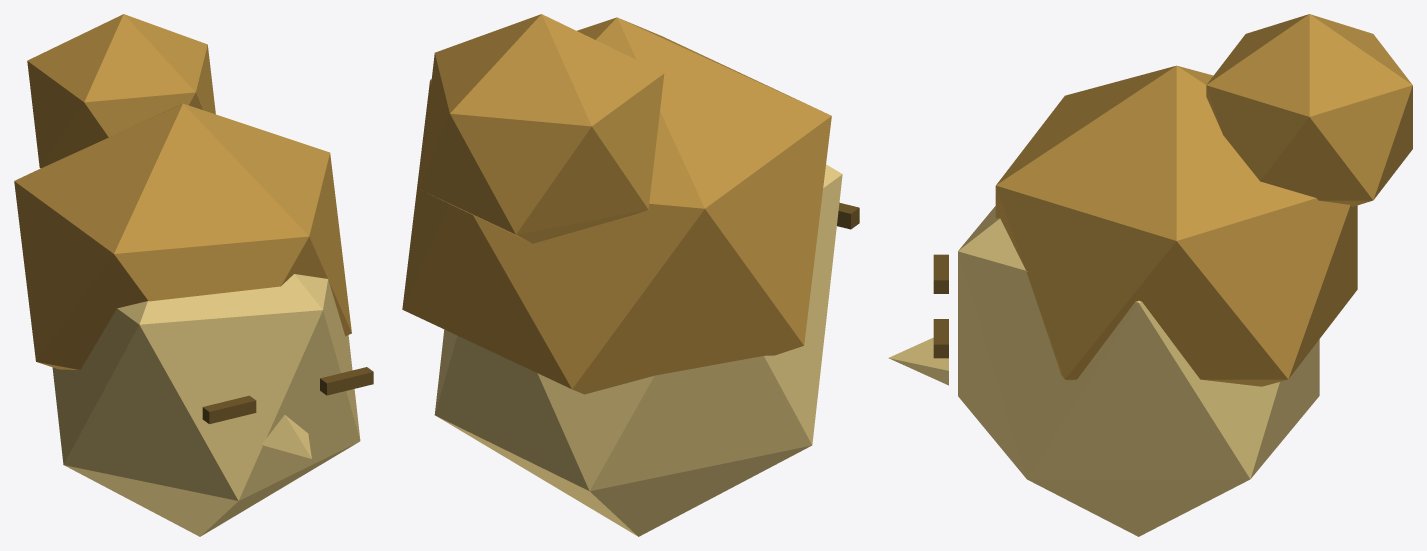
Rendered from statue_lady_head.glb.
3 views of the same model, side by side, from view 1: azimuth 30°, elevation 25°; view 2: azimuth 150°, elevation 25°; view 3: azimuth 270°, elevation 25° (orthographic). The views are drawn at different scales.
Parts seen in each view (by area): view 1: coiled hair, golden face, hair bun, nose, closed eye, closed eye.001; view 2: coiled hair, golden face, hair bun; view 3: coiled hair, golden face, hair bun, nose, closed eye, closed eye.001.
Part boxes in pixels (x1=…): coiled hair: x1=14, y1=103, x2=351, y2=369; golden face: x1=52, y1=274, x2=360, y2=536; hair bun: x1=27, y1=14, x2=215, y2=168; nose: x1=261, y1=415, x2=311, y2=463; closed eye: x1=202, y1=395, x2=256, y2=424; closed eye.001: x1=320, y1=367, x2=373, y2=395; coiled hair: x1=402, y1=17, x2=831, y2=394; golden face: x1=434, y1=164, x2=842, y2=536; hair bun: x1=419, y1=14, x2=664, y2=243; coiled hair: x1=995, y1=65, x2=1357, y2=386; golden face: x1=958, y1=206, x2=1319, y2=536; hair bun: x1=1206, y1=14, x2=1412, y2=206; nose: x1=888, y1=337, x2=948, y2=385; closed eye: x1=933, y1=254, x2=948, y2=293; closed eye.001: x1=933, y1=319, x2=948, y2=358.
Size of the model in its own units: 0.1002 by 0.152 by 0.1382.
